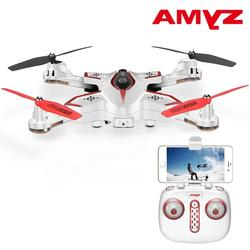drone: (1, 43, 250, 136)
